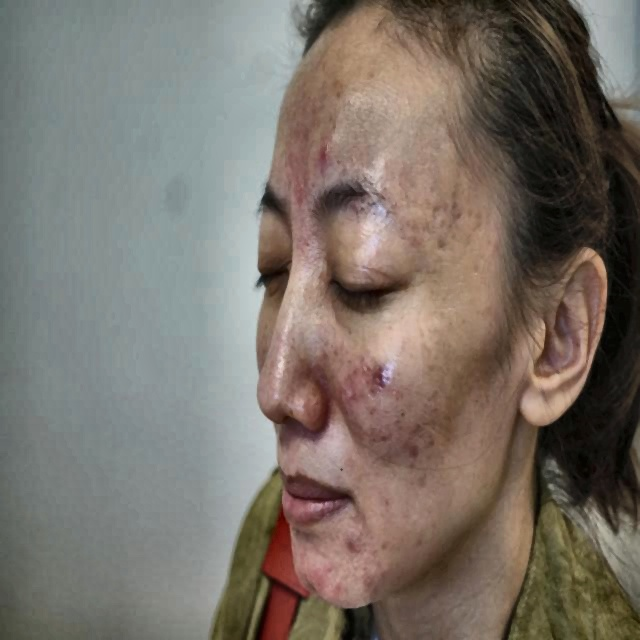pustule: (371, 348, 394, 399), (362, 570, 380, 599), (308, 563, 327, 589), (405, 439, 421, 469), (317, 139, 333, 167), (348, 534, 364, 558), (489, 232, 502, 260), (332, 578, 349, 599)
